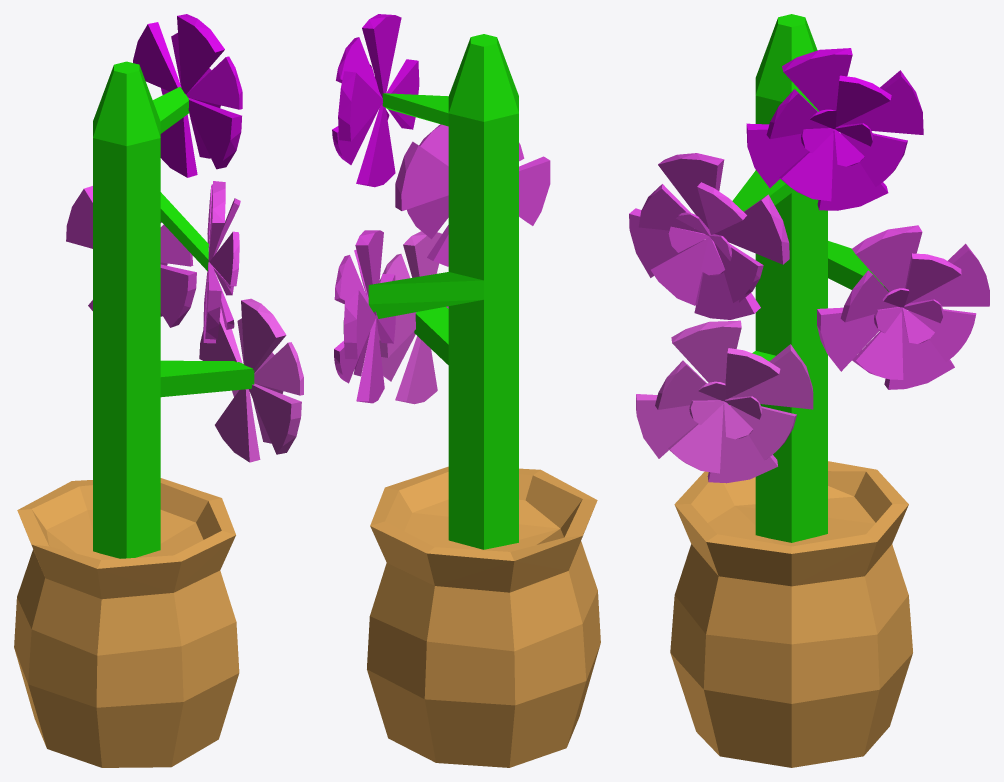
File: Cıcek.fbx
3 views of the same model, side by side, from view 1: azimuth 30°, elevation 25°; view 2: azimuth 150°, elevation 25°; view 3: azimuth 270°, elevation 25° (orthographic). The views are drawn at different scales.
Visible parts, largest first — view 1: Plane.001, Plane.002, Plane.003, Plane.004, Plane.005, Plane.006; view 2: Plane.001, Plane.002, Plane.003, Plane.005, Plane.006, Plane.004; view 3: Plane.001, Plane.002, Plane.004, Plane.003, Plane.006, Plane.005.
Boxes of the visible parts, x1=… form: Plane.001: x1=14, y1=478, x2=239, y2=767; Plane.002: x1=93, y1=61, x2=254, y2=558; Plane.003: x1=133, y1=14, x2=242, y2=177; Plane.004: x1=199, y1=298, x2=303, y2=462; Plane.005: x1=203, y1=181, x2=240, y2=343; Plane.006: x1=66, y1=186, x2=196, y2=327; Plane.001: x1=367, y1=466, x2=600, y2=767; Plane.002: x1=368, y1=34, x2=518, y2=549; Plane.003: x1=332, y1=14, x2=419, y2=187; Plane.005: x1=395, y1=124, x2=550, y2=266; Plane.006: x1=334, y1=230, x2=395, y2=403; Plane.004: x1=378, y1=231, x2=448, y2=404; Plane.001: x1=670, y1=461, x2=912, y2=767; Plane.002: x1=728, y1=14, x2=889, y2=542; Plane.004: x1=636, y1=320, x2=813, y2=483; Plane.003: x1=746, y1=48, x2=923, y2=210; Plane.006: x1=817, y1=225, x2=989, y2=389; Plane.005: x1=629, y1=153, x2=789, y2=319.
Bounding box in the file's own units: 110 × 332 × 150.
